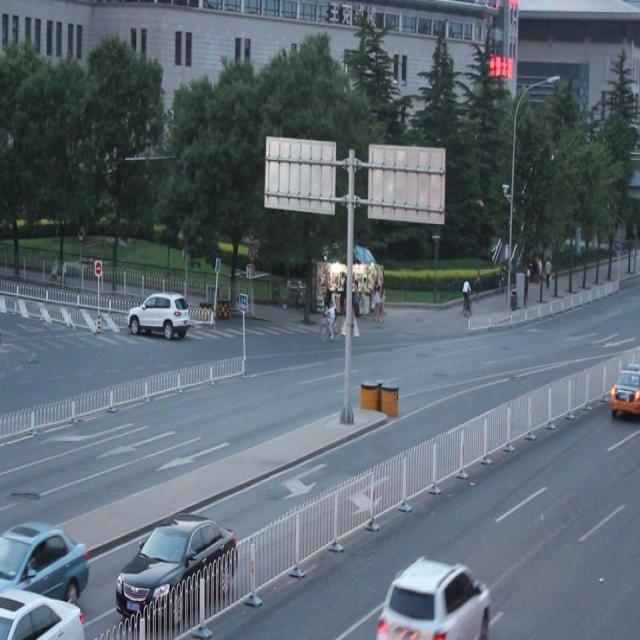car: (113, 513, 238, 612), (377, 552, 489, 640), (1, 516, 89, 606), (0, 586, 87, 640), (128, 290, 190, 340), (607, 365, 640, 420)
